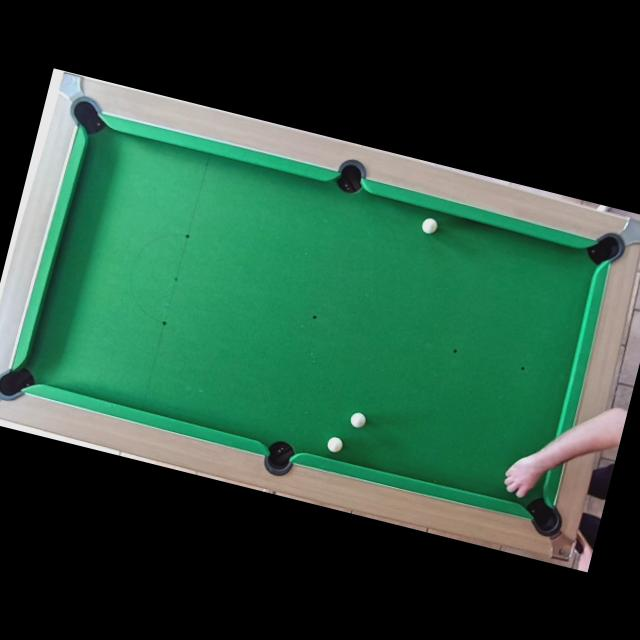Ball: (326, 435, 344, 453), (349, 411, 367, 429), (420, 218, 438, 235)
